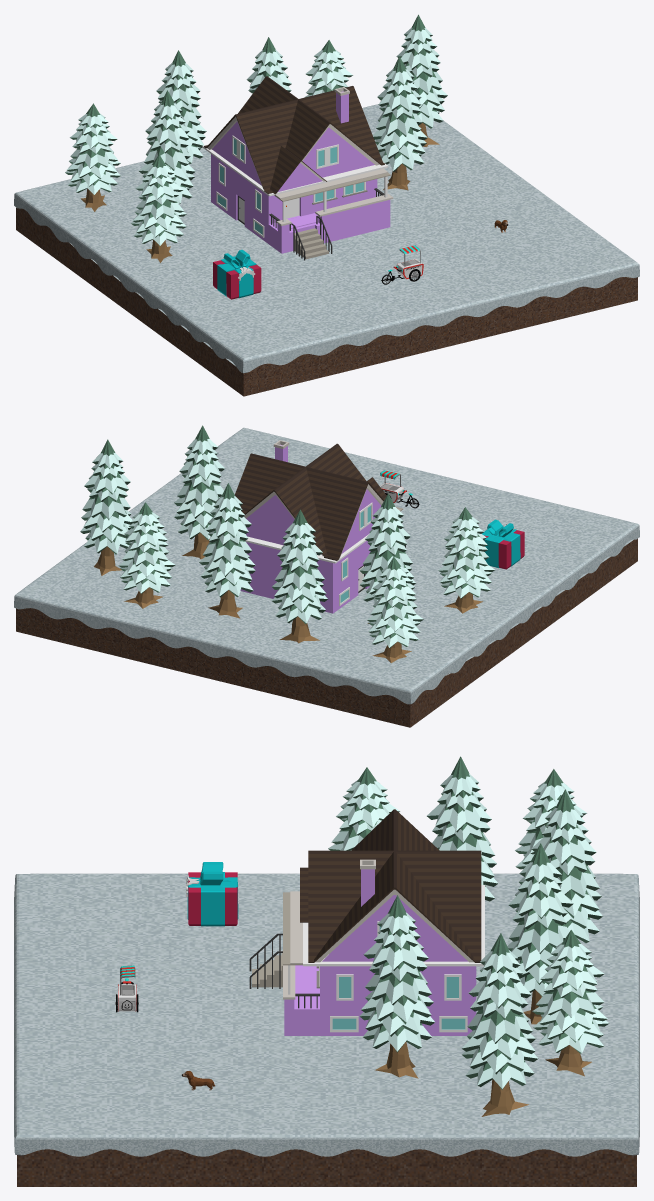
The picture shows the model from 3 angles, top to bottom: view 1: azimuth 30°, elevation 25°; view 2: azimuth 150°, elevation 25°; view 3: azimuth 270°, elevation 25°; orthographic projection. The views are drawn at different scales.
Visible parts, largest first — view 1: Cube.003, Cube.391, OBJRANDOM_GIANT_PRESENT, VEHICLES_SNOWBAL_BIKE; view 2: Cube.003, Cube.391, OBJRANDOM_GIANT_PRESENT, VEHICLES_SNOWBAL_BIKE; view 3: Cube.003, Cube.391, OBJRANDOM_GIANT_PRESENT, VEHICLES_SNOWBAL_BIKE.
Boxes of the visible parts, x1=… form: Cube.003: x1=14, y1=14, x2=639, y2=396; Cube.391: x1=202, y1=76, x2=393, y2=260; OBJRANDOM_GIANT_PRESENT: x1=213, y1=249, x2=261, y2=299; VEHICLES_SNOWBAL_BIKE: x1=381, y1=245, x2=423, y2=284; Cube.003: x1=14, y1=425, x2=639, y2=727; Cube.391: x1=235, y1=440, x2=405, y2=613; OBJRANDOM_GIANT_PRESENT: x1=482, y1=519, x2=524, y2=569; VEHICLES_SNOWBAL_BIKE: x1=379, y1=470, x2=419, y2=508; Cube.003: x1=14, y1=756, x2=639, y2=1186; Cube.391: x1=249, y1=809, x2=484, y2=1035; OBJRANDOM_GIANT_PRESENT: x1=186, y1=862, x2=238, y2=926; VEHICLES_SNOWBAL_BIKE: x1=115, y1=965, x2=138, y2=1012.
Bounding box in the file's own units: 4040 × 1642 × 4040.
31 materials, 4 textured.
